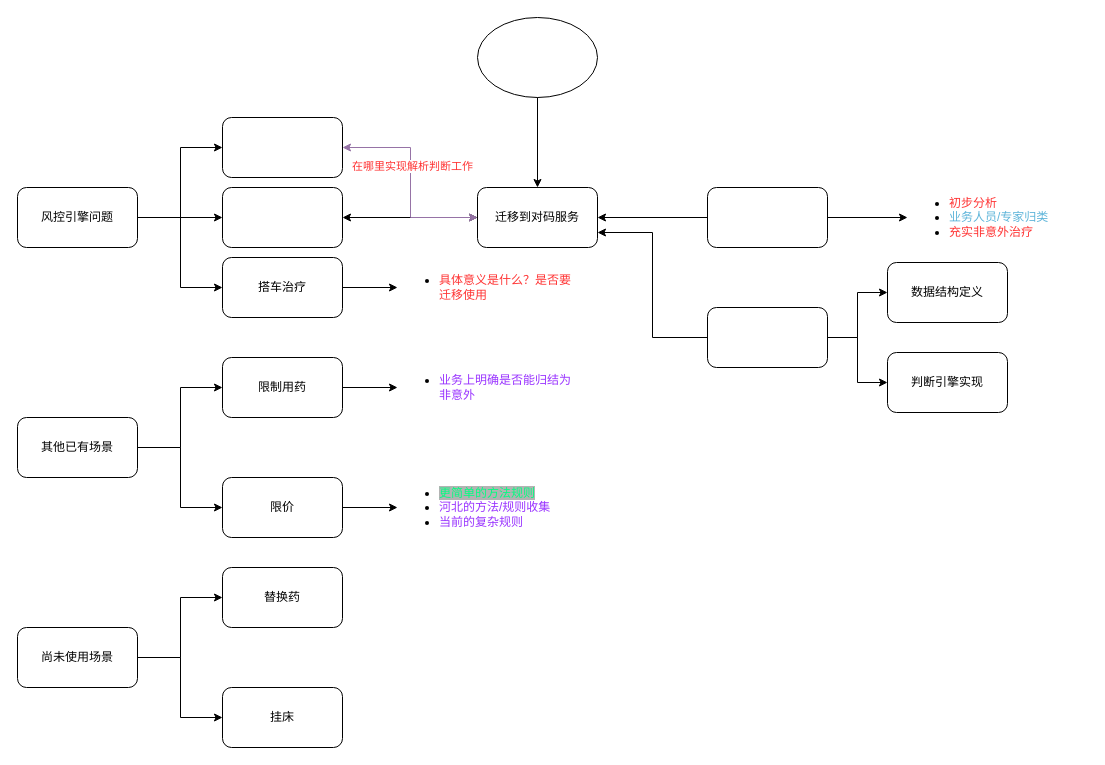
Some shapes in this 1105 by 765 pixel diagram are drawn without their labels. The centre of each missing label's shape, as x and y in pixels:
"反馈数据过滤" goes at point 767,217.
"新风控接口" goes at point 767,337.
"简易核减" goes at point 537,57.
"超适应用药" goes at point 282,147.
"非意外治疗" goes at point 282,217.
